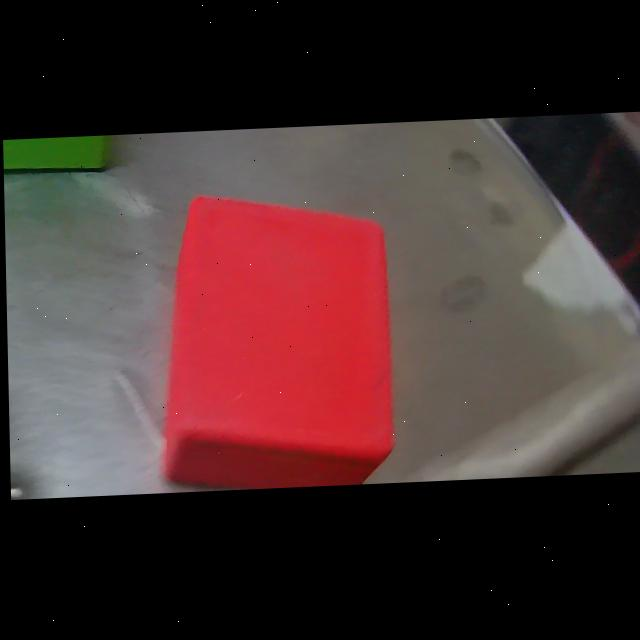greenBox: (3, 136, 123, 190)
redBox: (149, 180, 405, 495)
